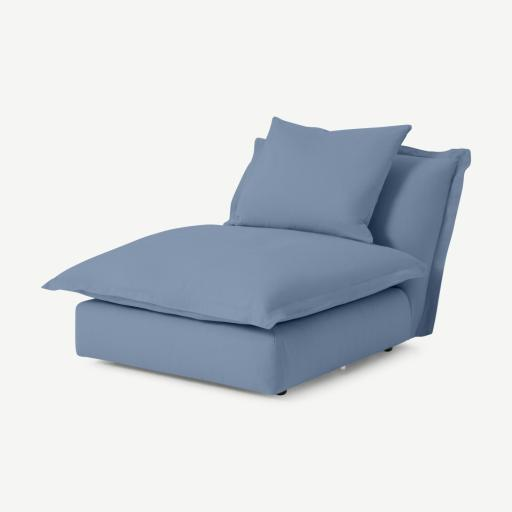back_cushion: (229, 117, 410, 243)
base: (75, 287, 410, 394)
left_arm: (369, 146, 470, 337)
one-seater: (0, 0, 511, 512)
seat_cushion: (44, 225, 426, 329)
